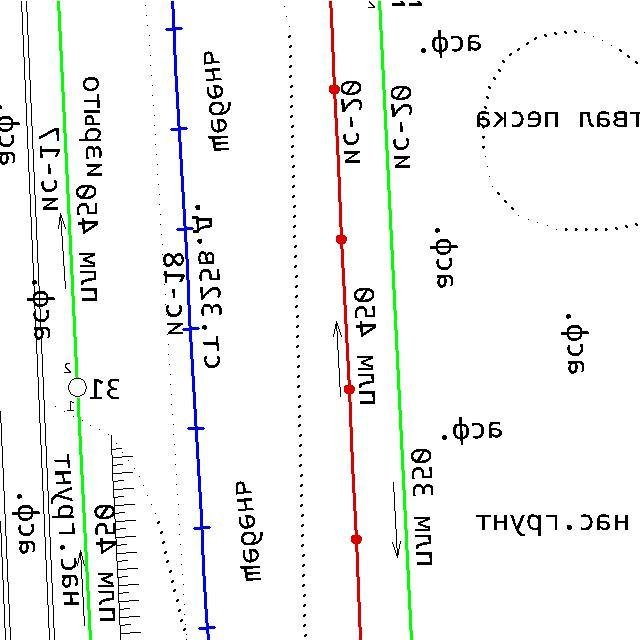asphalt: (418, 25, 483, 63), (438, 413, 506, 448), (428, 224, 462, 292), (558, 310, 592, 377), (10, 491, 42, 556), (25, 278, 57, 342)
well: (66, 375, 90, 400)
